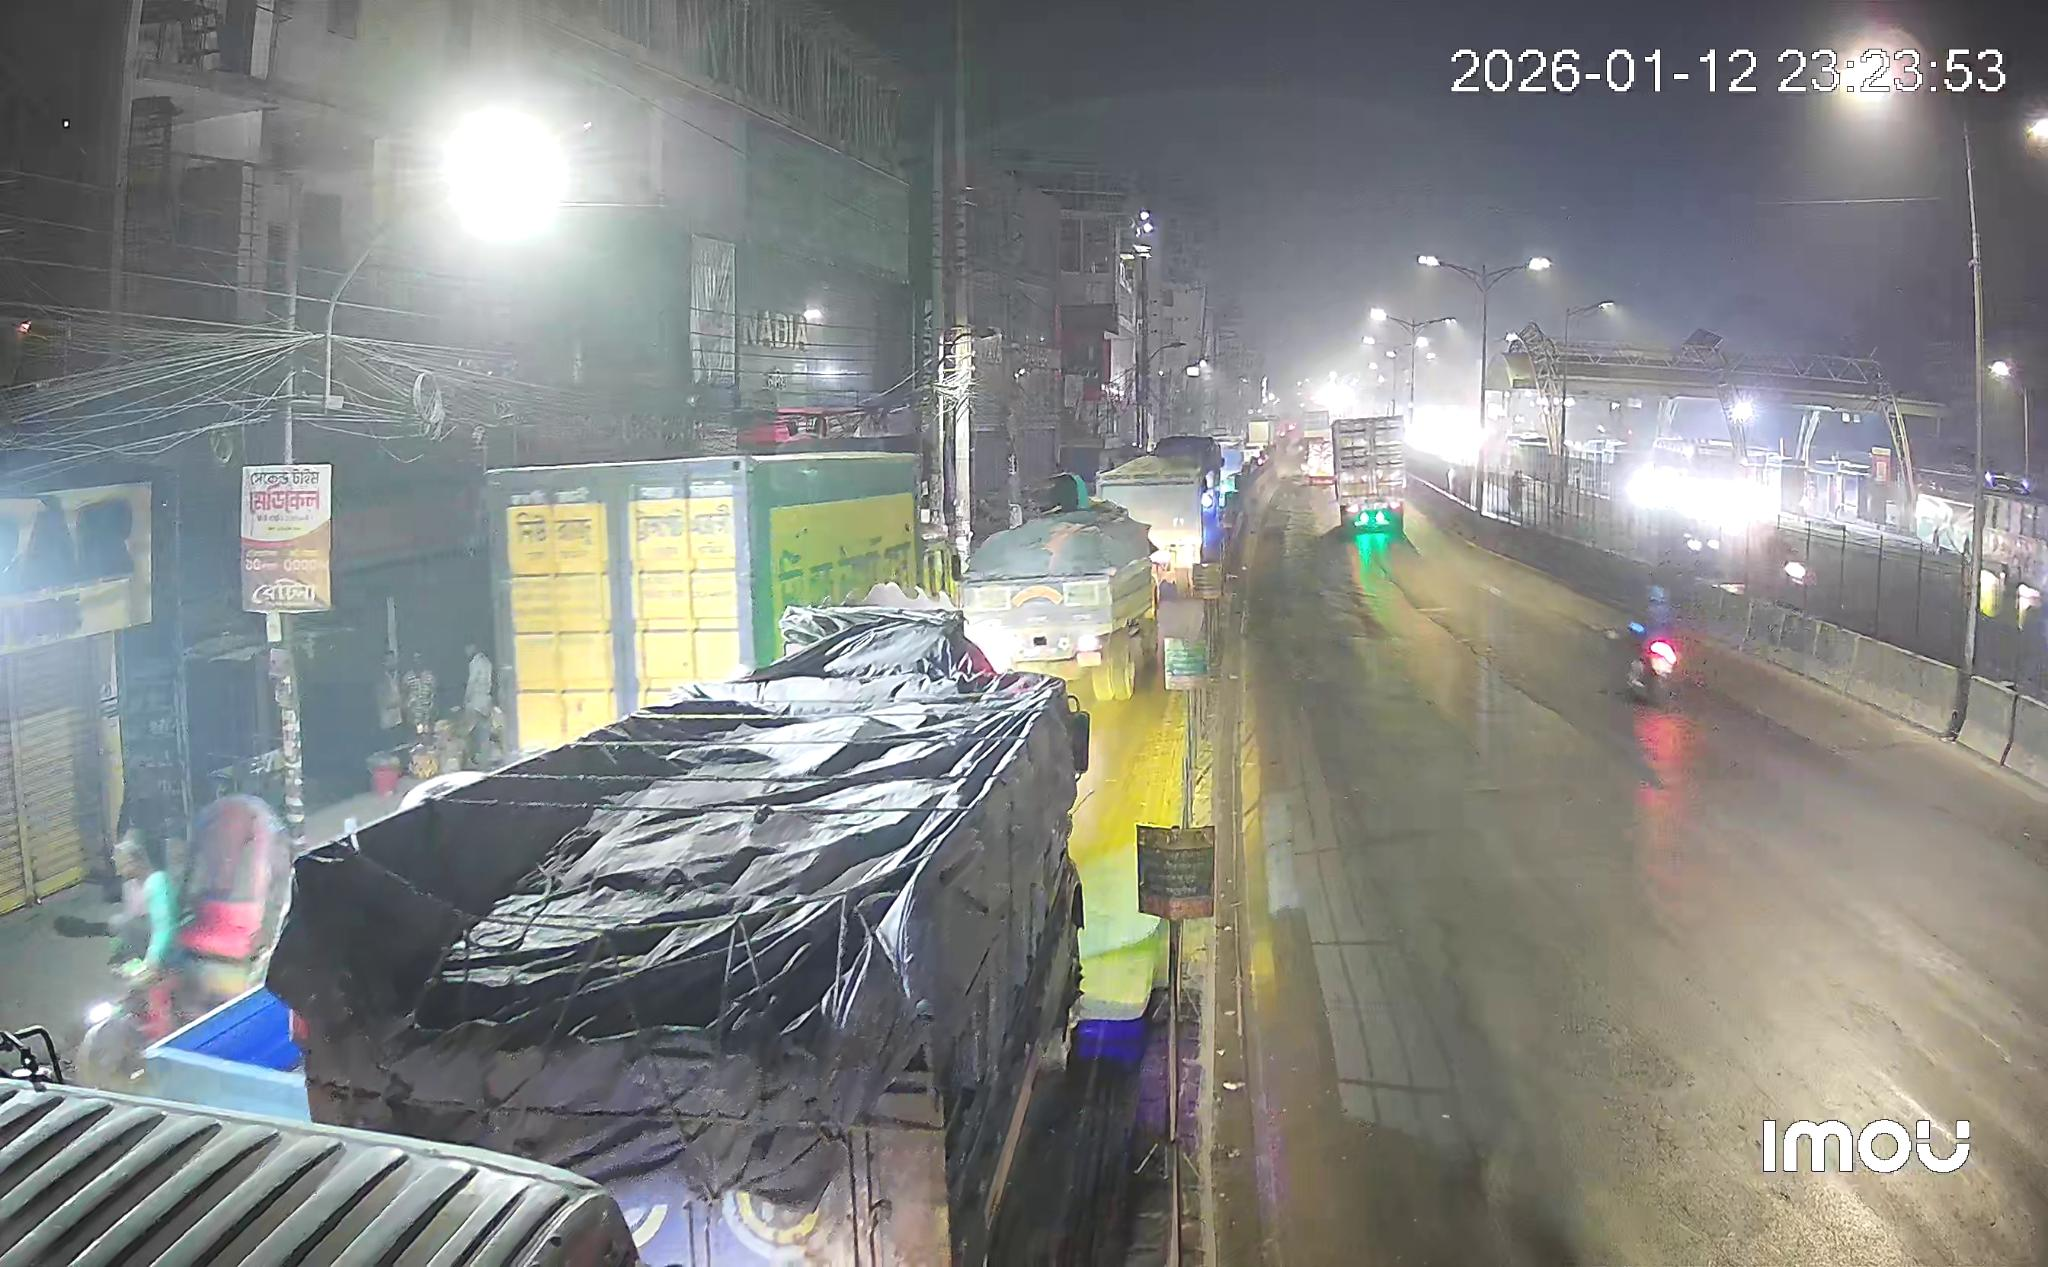Bus: (0, 576, 866, 847)
Motorcycle: (1609, 585, 1681, 704)
Truck: (268, 607, 1088, 1267), (486, 454, 925, 751), (960, 502, 1159, 701), (1102, 436, 1236, 578), (1330, 417, 1406, 530)
